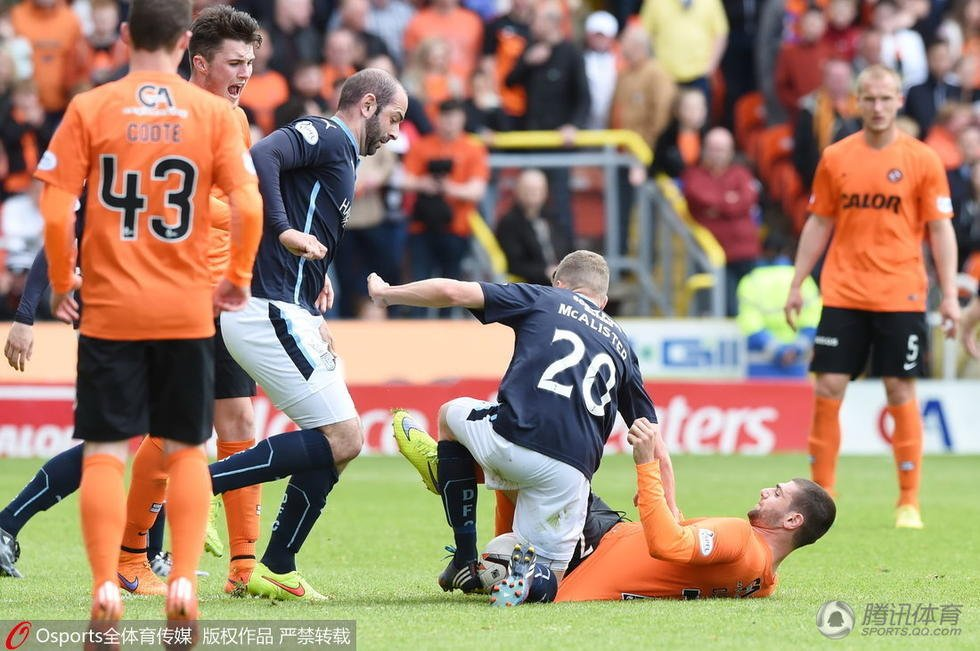10+: (1, 3, 969, 637)
down: (373, 398, 856, 627)
